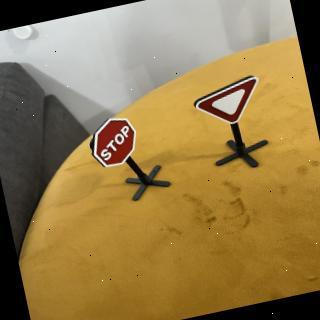sign_stop: (85, 112, 145, 173)
sign_yield: (192, 74, 269, 132)
